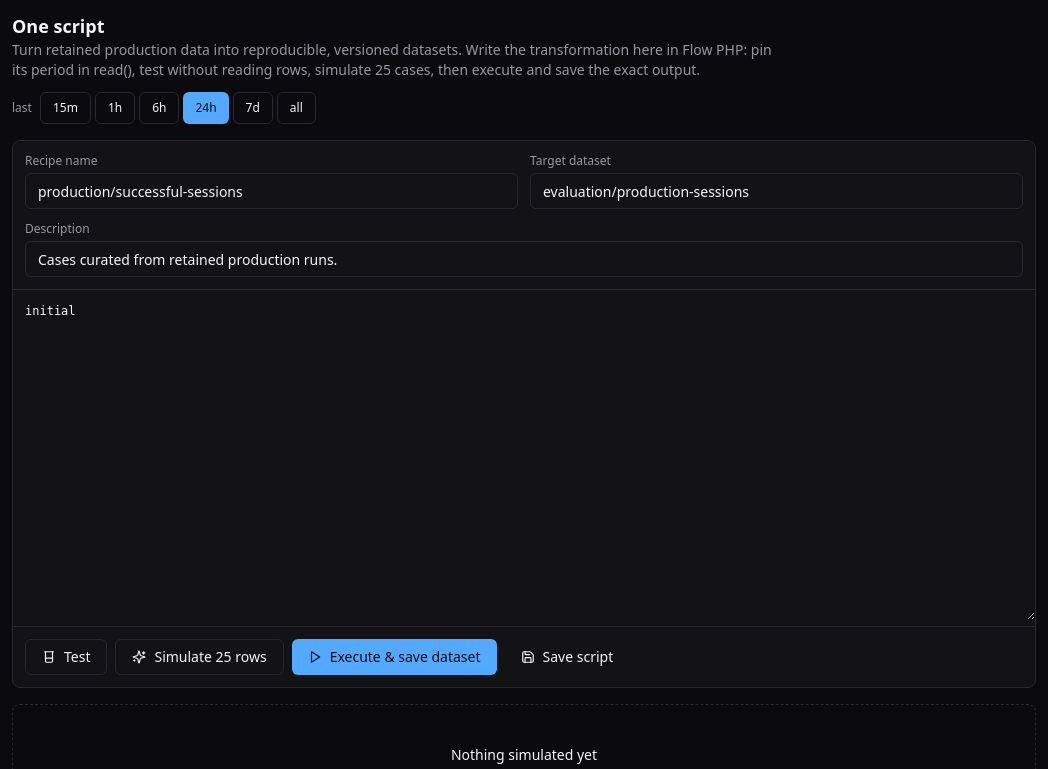
Test case: ignores a successful save after navigating to another script in the same route
The width and height of the screenshot is (1048, 769).
Step 1. Replace the text in the text box named "Flow PHP recipe" with "submitted" → (524, 455), box [13,290,1035,620]
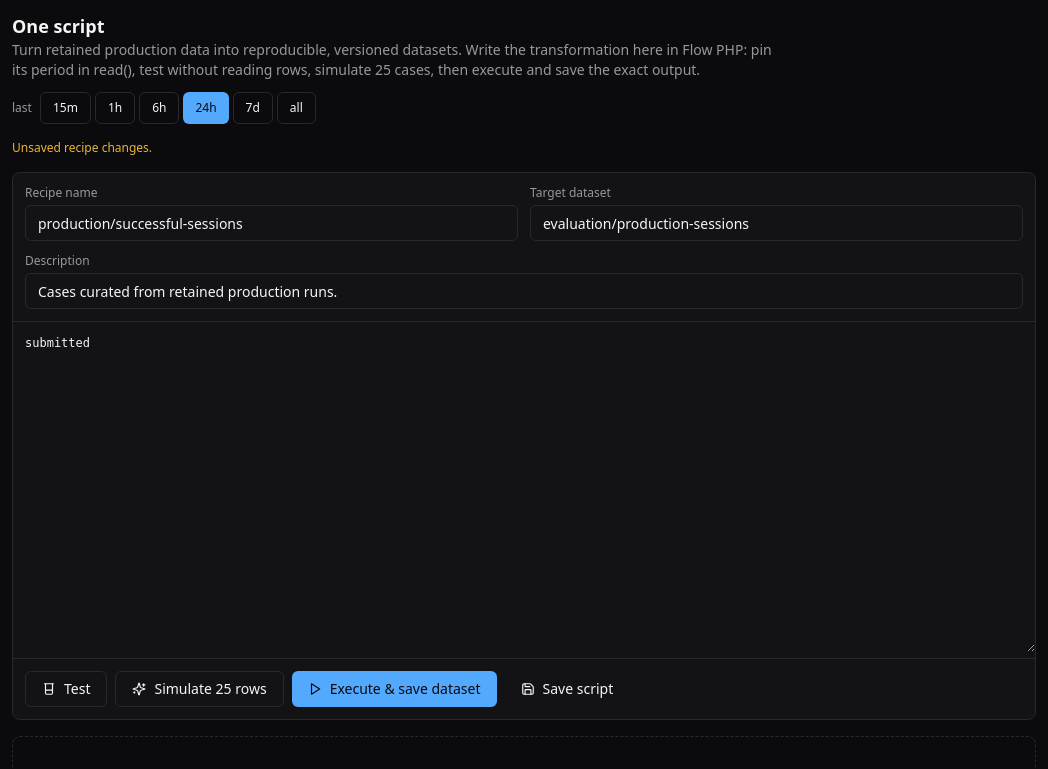
Step 2. Click the button "Save script" → (567, 689), box [504,671,629,707]
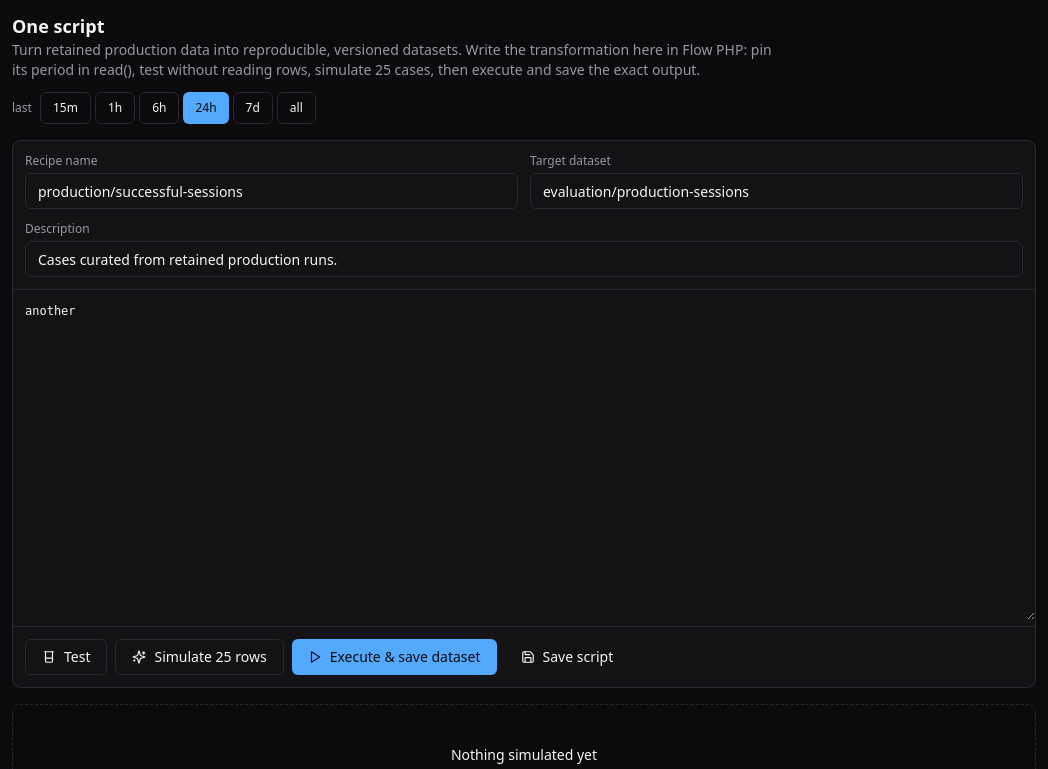
expect the text box named "Flow PHP recipe" holds "another": met, box [13,290,1035,620]
expect the text "Unsaved recipe changes." is gone: met
